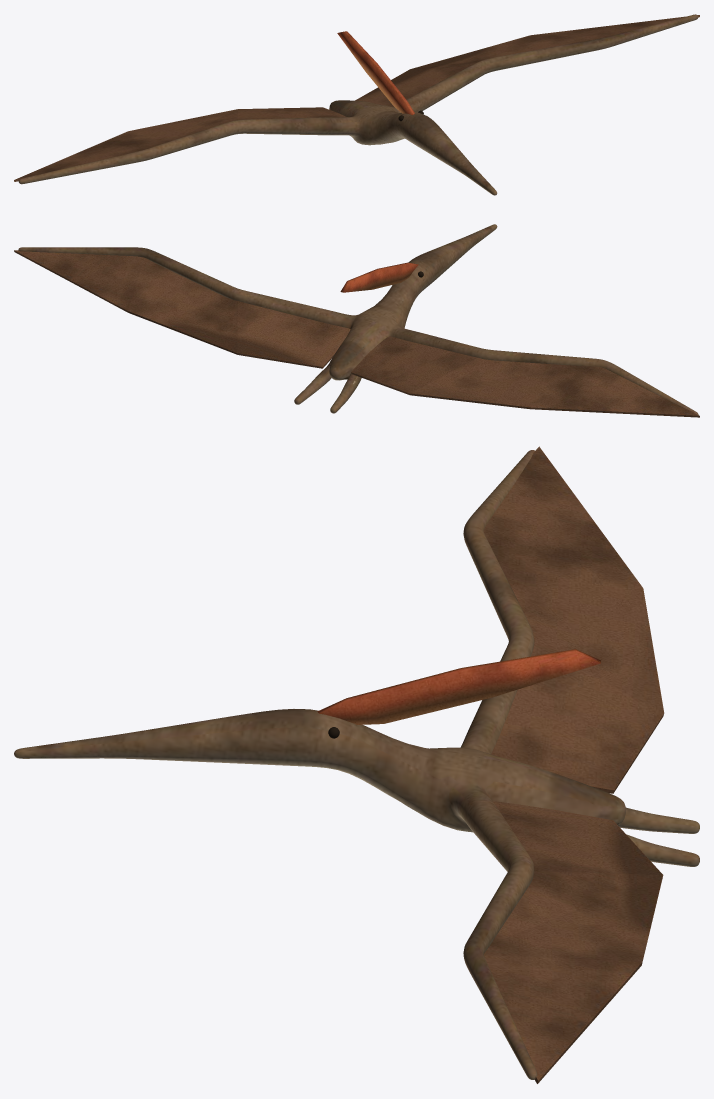
Rendered from pteranodon.glb.
The picture shows the model from 3 angles, top to bottom: view 1: azimuth 30°, elevation 25°; view 2: azimuth 150°, elevation 25°; view 3: azimuth 270°, elevation 25°; orthographic projection. The views are drawn at different scales.
Visible parts, largest first — view 1: pteranodon; view 2: pteranodon; view 3: pteranodon.
Part boxes in pixels (box(x1,y1,x2,y2)): pteranodon: box(14, 14, 699, 195); pteranodon: box(14, 224, 699, 417); pteranodon: box(14, 446, 699, 1083).
Bounding box in the file's own units: 7.16 × 1.05 × 3.29.
Materials: 6 (4 with a texture image).
